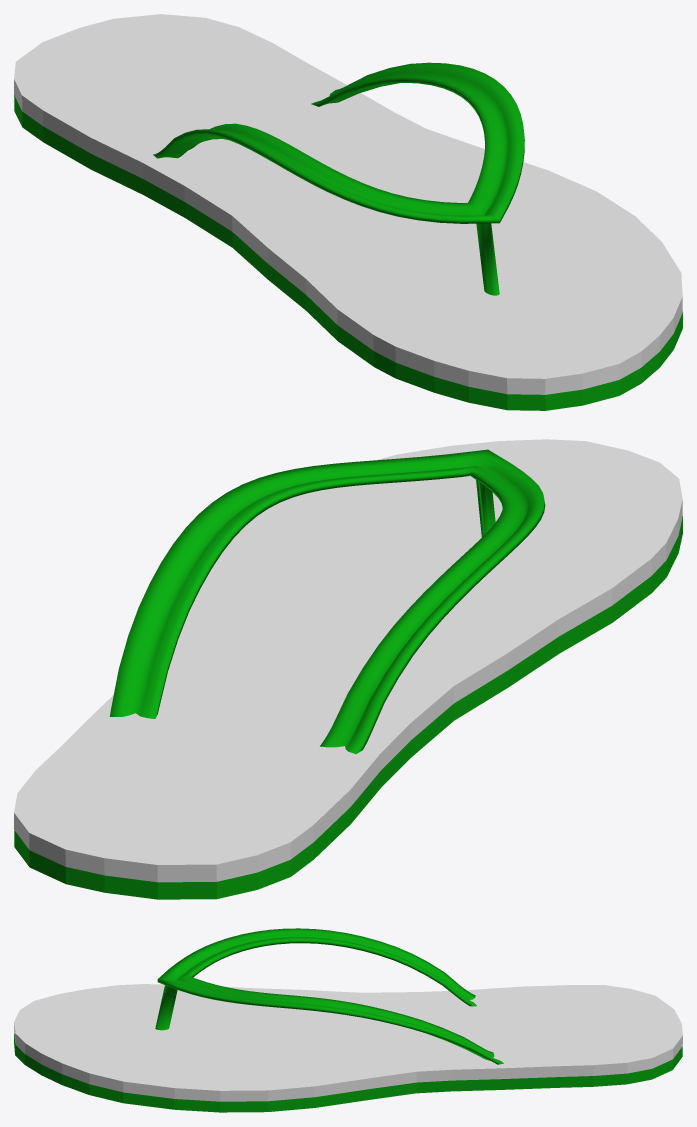
File: sendalijo.fbx
The picture shows the model from 3 angles, top to bottom: view 1: azimuth 30°, elevation 25°; view 2: azimuth 150°, elevation 25°; view 3: azimuth 270°, elevation 25°; orthographic projection. The views are drawn at different scales.
Visible parts, largest first — view 1: Plane; view 2: Plane; view 3: Plane.
Part boxes in pixels (bbox=[...]): Plane: bbox=[14, 14, 682, 410]; Plane: bbox=[14, 439, 682, 899]; Plane: bbox=[14, 928, 682, 1112].
Size of the model in its own units: 173 by 66.48 by 447.
